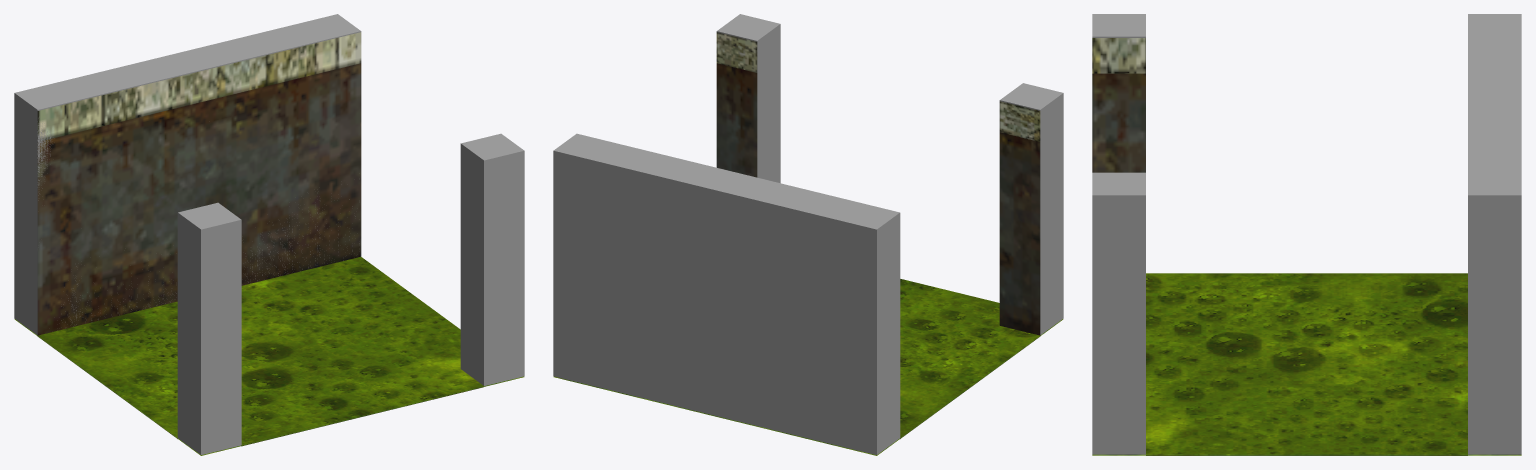
Rendered from sewerDeep3Way.fbx.
The picture shows the model from 3 angles, left to right: view 1: azimuth 30°, elevation 25°; view 2: azimuth 150°, elevation 25°; view 3: azimuth 270°, elevation 25°; orthographic projection. The views are drawn at different scales.
Visible parts, largest first — view 1: sewerDeep3WayQ, waterPlaneC07, mvcv_obb_sewerDeep3WayQ_01 (×2), mvcv_obb_sewerDeep3WayQ_03, waterPlaneB07, waterPlaneA07; view 2: mvcv_obb_sewerDeep3WayQ_01 (×2), sewerDeep3WayQ, waterPlaneC07, mvcv_obb_sewerDeep3WayQ_03, waterPlaneB07, waterPlaneA07; view 3: waterPlaneC07, mvcv_obb_sewerDeep3WayQ_01 (×2), sewerDeep3WayQ, mvcv_obb_sewerDeep3WayQ_03, waterPlaneA07.
Part boxes in pixels (<box>): sewerDeep3WayQ: <box>37,32,483,446</box>; waterPlaneC07: <box>38,257,483,444</box>; mvcv_obb_sewerDeep3WayQ_01 (×2): <box>14,14,524,385</box>; mvcv_obb_sewerDeep3WayQ_03: <box>177,202,241,454</box>; waterPlaneB07: <box>15,319,523,455</box>; waterPlaneA07: <box>15,319,523,455</box>; mvcv_obb_sewerDeep3WayQ_01 (×2): <box>553,14,900,454</box>; sewerDeep3WayQ: <box>716,32,1040,438</box>; waterPlaneC07: <box>900,279,1039,437</box>; mvcv_obb_sewerDeep3WayQ_03: <box>999,83,1063,335</box>; waterPlaneB07: <box>554,319,1062,455</box>; waterPlaneA07: <box>554,319,1062,455</box>; waterPlaneC07: <box>1146,273,1467,454</box>; mvcv_obb_sewerDeep3WayQ_01 (×2): <box>1092,14,1521,454</box>; sewerDeep3WayQ: <box>1092,38,1467,455</box>; mvcv_obb_sewerDeep3WayQ_03: <box>1092,14,1145,37</box>; waterPlaneA07: <box>1092,454,1521,455</box>.
Bounding box in the file's own units: 300 × 201 × 300.
4 materials, 3 textured.
